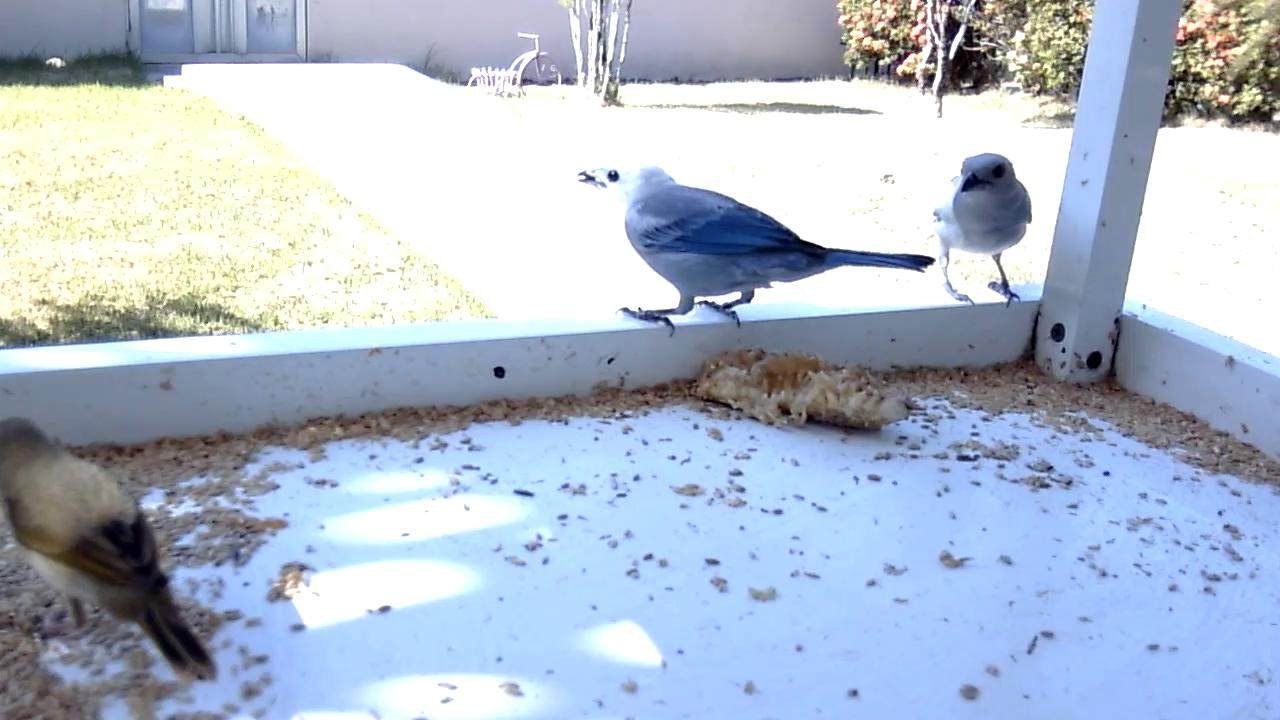canario_do_amazonas: (1, 415, 221, 693)
sanhaco_da_amazonia: (576, 161, 937, 340), (928, 151, 1036, 313)
